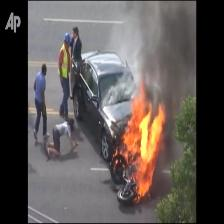fire: (115, 81, 166, 201)
